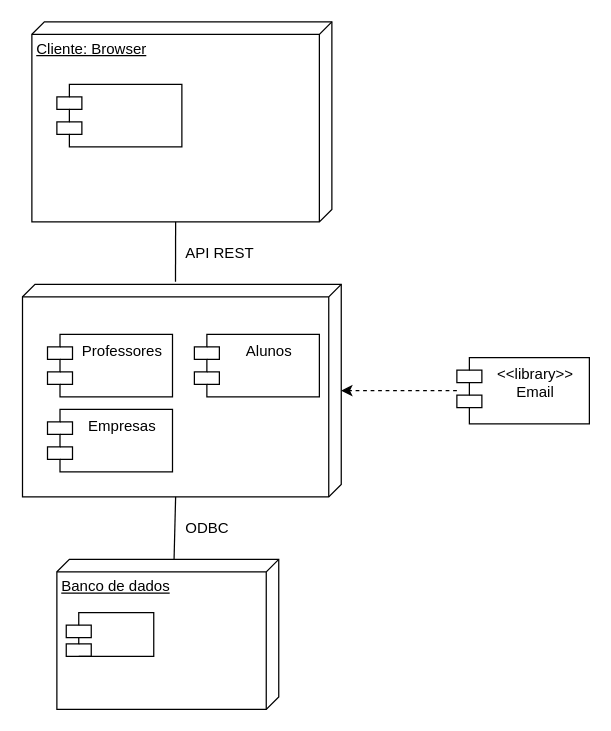
This 611x731 diagram has some shape labels left out. The shapes that lost their labels are listed below. From the top down, each one's box as (x1, y1, x2, y2) in pixels, then its label:
(56, 83, 182, 147): Utilização do sistema de moedas
(21, 283, 341, 497): Servidor: Aplicação
(65, 611, 154, 656): SGBD
